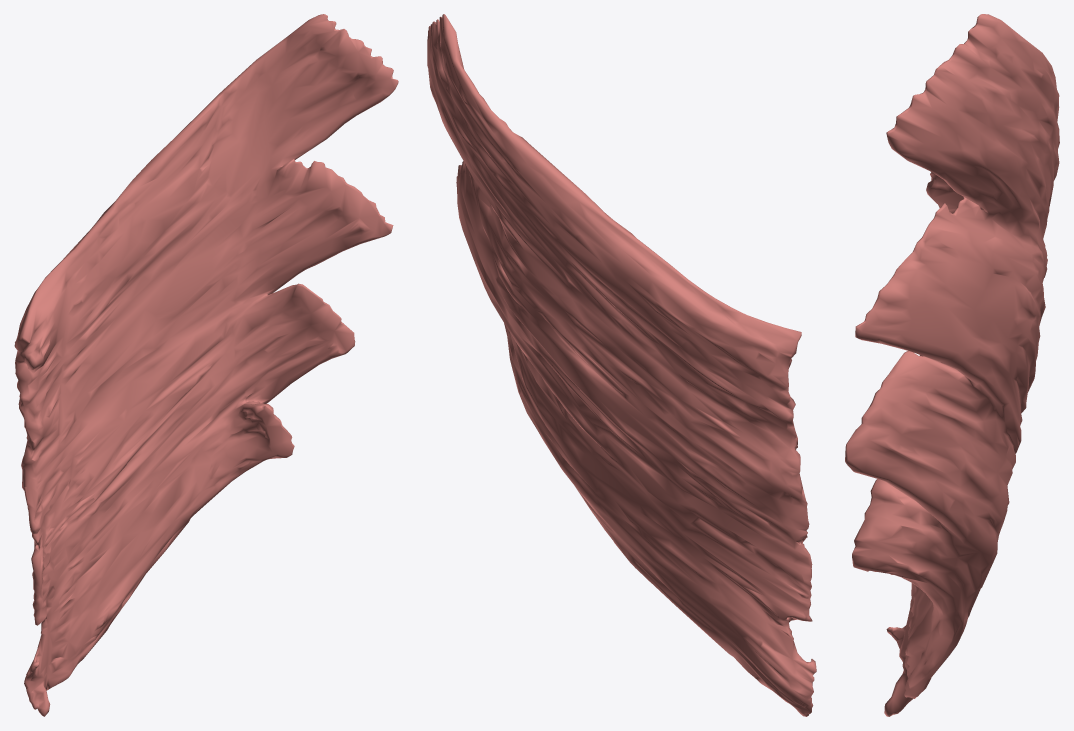
3 views of the same model, side by side, from view 1: azimuth 30°, elevation 25°; view 2: azimuth 150°, elevation 25°; view 3: azimuth 270°, elevation 25° (orthographic). The views are drawn at different scales.
Parts seen in each view (by area): view 1: ZA_e0f384f5534af341; view 2: ZA_e0f384f5534af341; view 3: ZA_e0f384f5534af341.
Part boxes in pixels (left/top/right/bottom): ZA_e0f384f5534af341: left=14, top=14, right=398, bottom=716; ZA_e0f384f5534af341: left=427, top=14, right=816, bottom=716; ZA_e0f384f5534af341: left=845, top=14, right=1059, bottom=716.
Size of the model in its own units: 0.1137 by 0.1786 by 0.0371.
